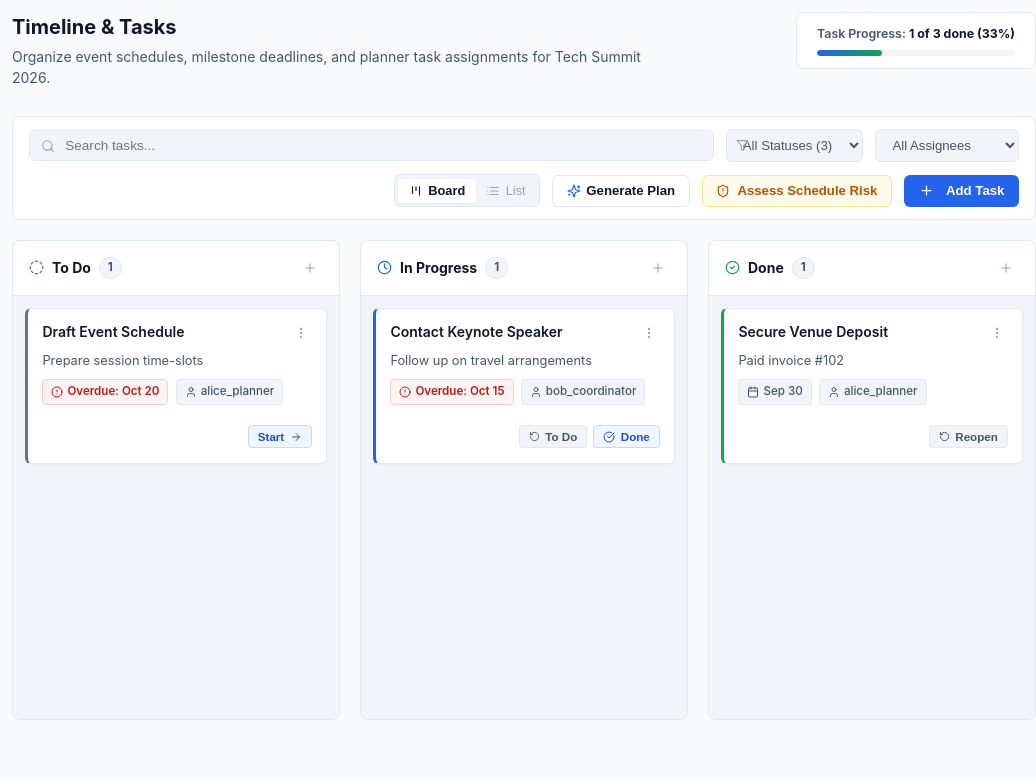
Test: EventTimelineTab & Task Management (Epic 3.3) › filters tasks by search query
Type "Keynote" into the field labelled "Search tasks...".
click(371, 146); type("Keynote")  # box [29,130,714,161]
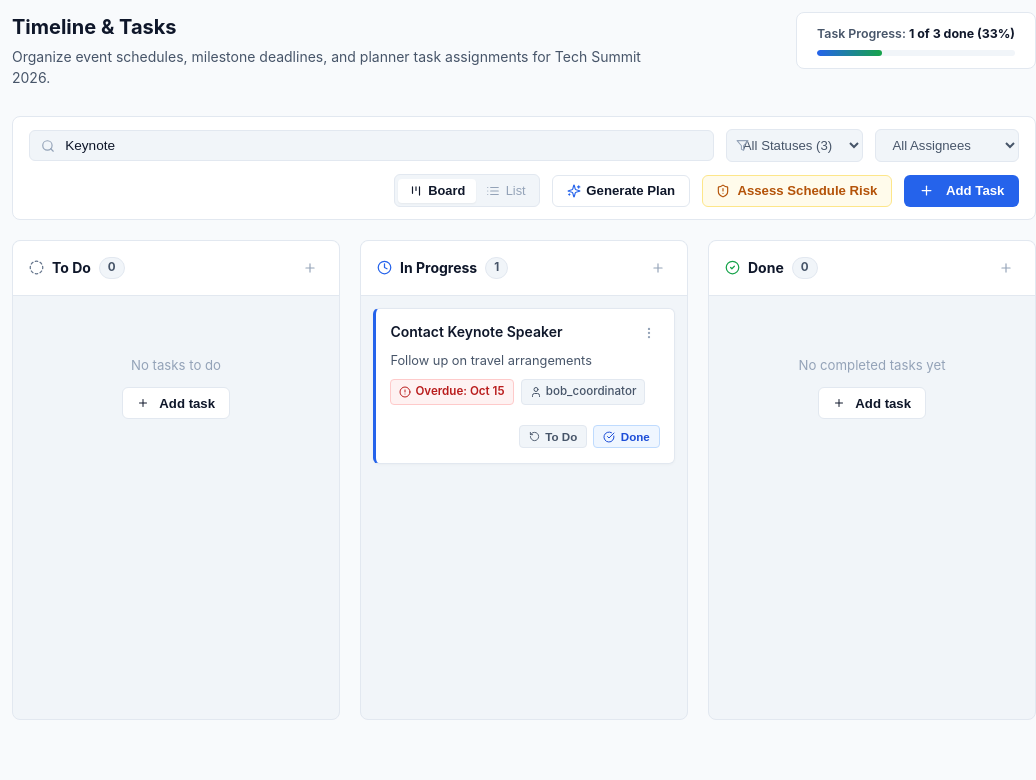
Expected: the heading "Contact Keynote Speaker" is shown, [390,323,562,342]
Result: the heading "Draft Event Schedule" is gone
Result: the heading "Secure Venue Deposit" is gone
